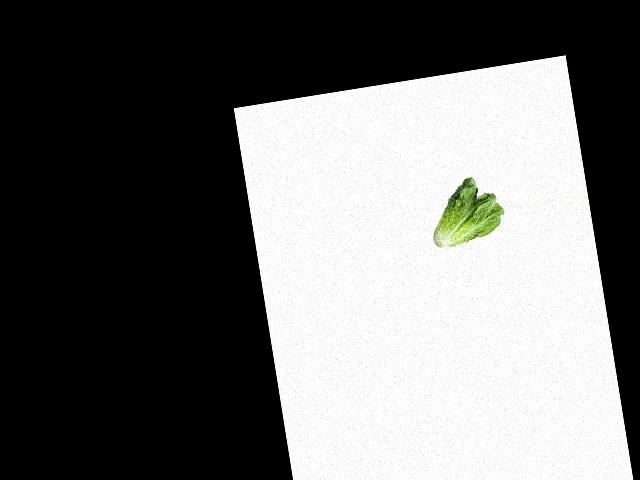lettuce: (424, 170, 510, 251)
